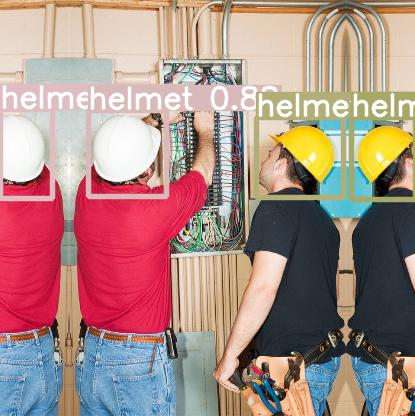helmet: (256, 117, 343, 197), (88, 110, 166, 196), (351, 117, 415, 199), (0, 109, 52, 198)
